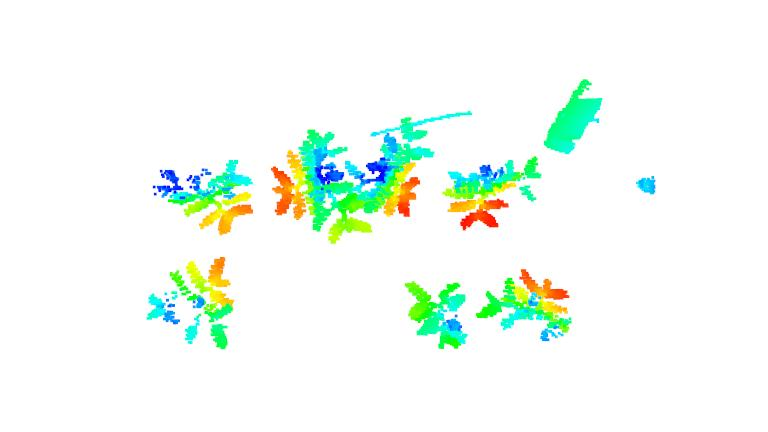chickpea: (271, 126, 373, 246), (345, 116, 436, 218), (143, 253, 236, 352), (149, 158, 253, 236), (471, 269, 575, 345), (445, 157, 545, 231), (402, 277, 469, 351)
